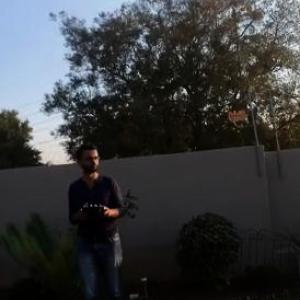follow: (62, 138, 130, 299)
